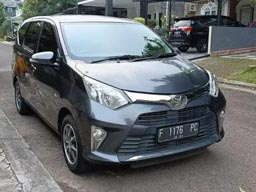plat: (158, 121, 198, 141)
